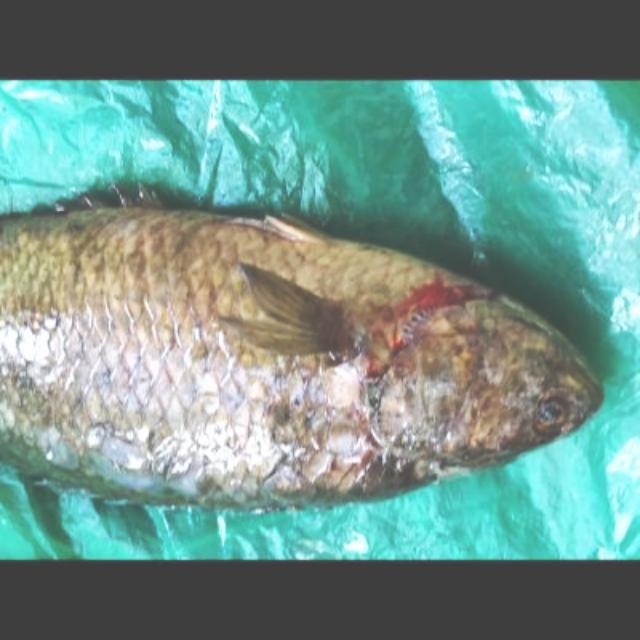Columnaris Disease: (0, 205, 598, 509)
